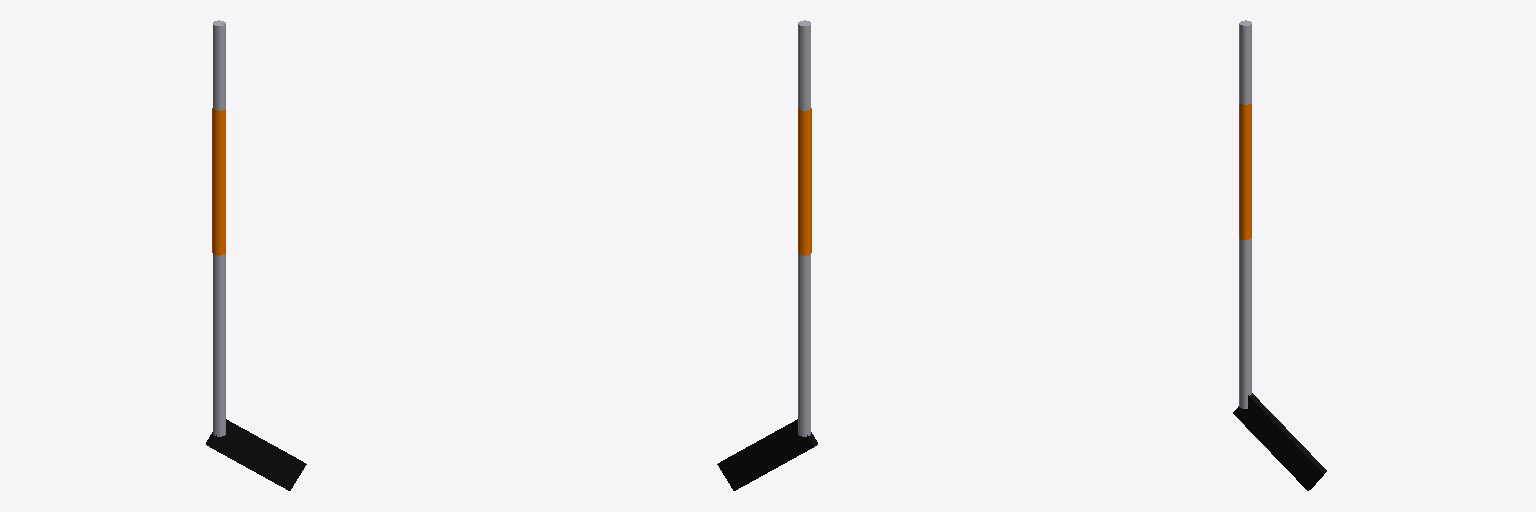
The robot description file, URDF, robot "franklin_street_hockey_stick":
<?xml version="1.0"?>
<robot name="franklin_street_hockey_stick">

  <material name="SilverWrap">
    <color rgba="0.7 0.7 0.75 1.0"/>
  </material>

  <material name="BlackPlastic">
    <color rgba="0.1 0.1 0.1 1.0"/>
  </material>

  <material name="OrangeLogo">
    <color rgba="1.0 0.5 0.0 1.0"/>
  </material>

  <link name="shaft_link">
    <visual>
      <origin xyz="0 0 0" rpy="0 0 0"/>
      <geometry>
        <cylinder length="0.85" radius="0.0127"/>
      </geometry>
      <material name="SilverWrap"/>
    </visual>
    
    <collision>
      <origin xyz="0 0 0" rpy="0 0 0"/>
      <geometry>
        <cylinder length="0.85" radius="0.0127"/>
      </geometry>
    </collision>

    <inertial>
      <mass value="0.3"/>
      <inertia ixx="0.01807" ixy="0.0" ixz="0.0" 
               iyy="0.01807" iyz="0.0" 
               izz="0.000024"/>
    </inertial>
  </link>

  <link name="blade_link">
    <visual>
      <origin xyz="0.10 0 0" rpy="0 0 0"/> 
      <geometry>
        <box size="0.22 0.015 0.06"/> 
      </geometry>
      <material name="BlackPlastic"/>
    </visual>

    <collision>
      <origin xyz="0.10 0 0" rpy="0 0 0"/>
      <geometry>
         <box size="0.22 0.015 0.06"/>
      </geometry>
    </collision>

    <inertial>
      <mass value="0.15"/>
      <inertia ixx="0.000048" ixy="0.0" ixz="0.0" 
               iyy="0.00065" iyz="0.0" 
               izz="0.00061"/>
    </inertial>
  </link>

  <joint name="shaft_to_blade_joint" type="fixed">
    <parent link="shaft_link"/>
    <child link="blade_link"/>
    <origin xyz="0 0 -0.425" rpy="0 0.65 0"/>
  </joint>

  <link name="graphic_band">
    <visual>
      <origin xyz="0 0 0" rpy="0 0 0"/>
      <geometry>
        <cylinder length="0.3" radius="0.0128"/> </geometry>
      <material name="OrangeLogo"/>
    </visual>
  </link>

  <joint name="shaft_graphic_joint" type="fixed">
    <parent link="shaft_link"/>
    <child link="graphic_band"/>
    <origin xyz="0 0 0.1" rpy="0 0 0"/>
  </joint>

</robot>

--- Facts derived from the render (not from the file) ---
3 views of the same robot in one strip: view 1: azimuth 30°, elevation 25°; view 2: azimuth 150°, elevation 25°; view 3: azimuth 330°, elevation 25° (orthographic).
Robot: franklin_street_hockey_stick — 3 links, 2 joints (2 fixed); root link shaft_link; default pose: all joints at 0.
Visible links, largest first — view 1: shaft_link, blade_link, graphic_band; view 2: shaft_link, blade_link, graphic_band; view 3: shaft_link, blade_link, graphic_band.
Link boxes in pixels (box(x1,y1,x2,y2)): shaft_link: box(213, 20, 225, 436); blade_link: box(206, 419, 306, 490); graphic_band: box(212, 108, 225, 255); shaft_link: box(798, 20, 810, 436); blade_link: box(717, 419, 817, 490); graphic_band: box(798, 108, 811, 255); shaft_link: box(1239, 20, 1251, 408); blade_link: box(1233, 393, 1326, 490); graphic_band: box(1239, 102, 1251, 239).
Size in the robot's own frame: 0.2114 by 0.0256 by 1 metres.
Geometry: primitives only (box / cylinder / sphere), no mesh files.
